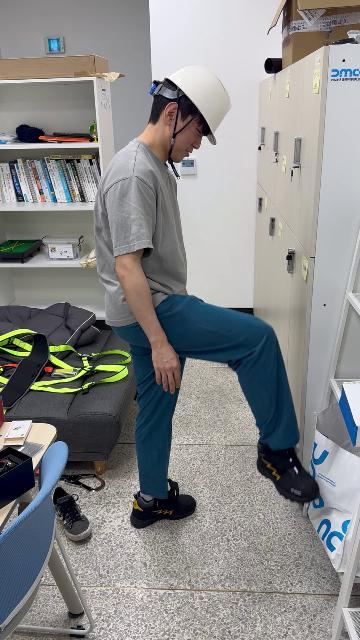helmet_worn: (157, 67, 232, 146)
shoe_not_worn: (51, 486, 91, 541)
shoe_worn: (257, 440, 320, 503), (130, 478, 197, 528)
vest_not_worn: (96, 140, 191, 334)
